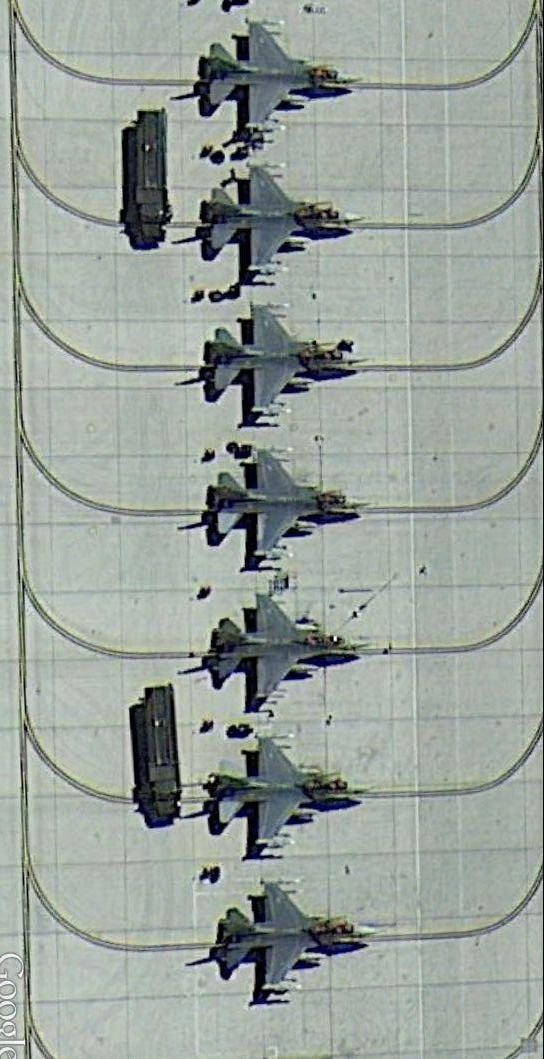F-16: (216, 878, 373, 999), (209, 733, 372, 849), (208, 446, 367, 562), (205, 300, 364, 415), (200, 163, 363, 269), (200, 24, 360, 130), (208, 598, 368, 704)
